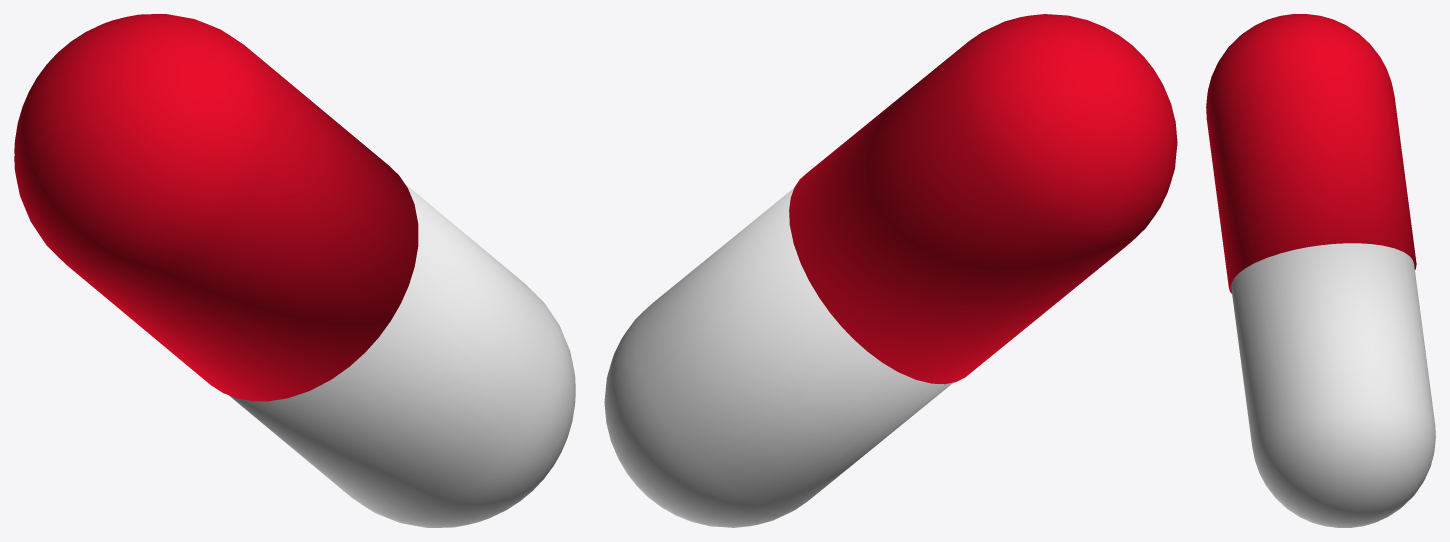
File: Pil .fbx
3 views of the same model, side by side, from view 1: azimuth 30°, elevation 25°; view 2: azimuth 150°, elevation 25°; view 3: azimuth 270°, elevation 25° (orthographic). The views are drawn at different scales.
Visible parts, largest first — view 1: Roundcube.002; view 2: Roundcube.002; view 3: Roundcube.002.
Part boxes in pixels (x1=…): Roundcube.002: x1=14, y1=14, x2=575, y2=527; Roundcube.002: x1=604, y1=14, x2=1177, y2=527; Roundcube.002: x1=1206, y1=14, x2=1435, y2=527.
Size of the model in its own units: 51.31 by 51.91 by 27.41.
